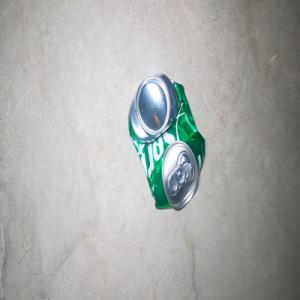SodaCan: (127, 72, 204, 209)
